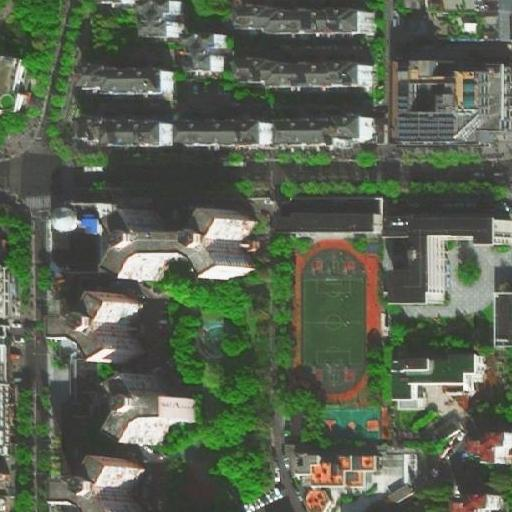building: (390, 217, 512, 307), (109, 209, 254, 278), (401, 62, 512, 143), (104, 372, 195, 452), (67, 290, 142, 364), (385, 354, 475, 408), (240, 51, 369, 87), (237, 0, 366, 31), (278, 196, 382, 234), (53, 449, 113, 512), (44, 199, 95, 271), (275, 118, 378, 147), (295, 451, 369, 489), (78, 114, 174, 143), (177, 116, 278, 143), (83, 68, 173, 94), (68, 364, 98, 436), (0, 60, 34, 112), (464, 427, 511, 463), (382, 475, 425, 512), (424, 407, 465, 444), (374, 448, 416, 478), (443, 491, 498, 512), (491, 291, 512, 346), (188, 42, 224, 70), (0, 377, 13, 448), (0, 318, 12, 377), (0, 465, 15, 511), (0, 258, 13, 310)
